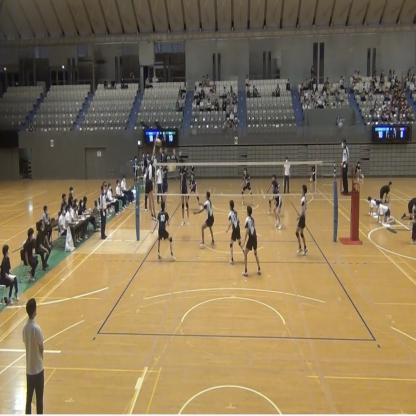spike: (143, 136, 162, 224)
